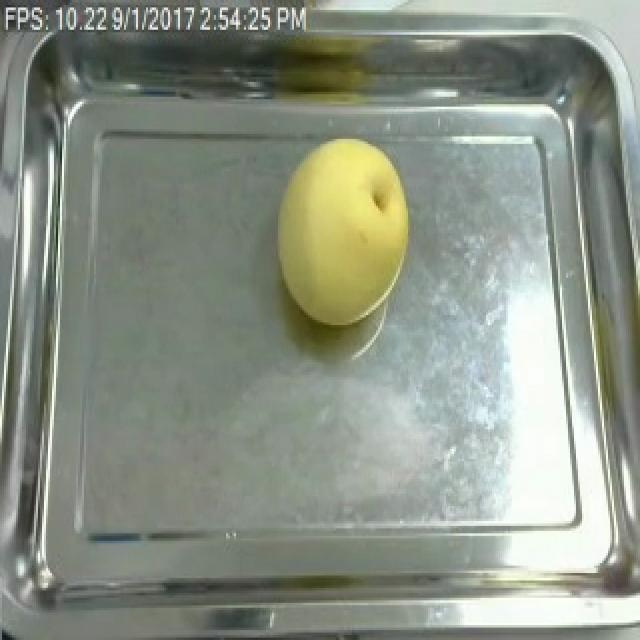Fruit: (268, 132, 418, 332)
